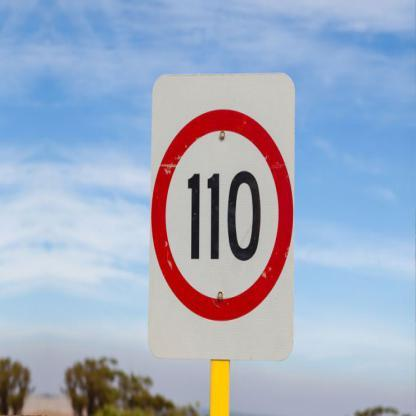Speed Limit 110: (152, 107, 292, 320)
